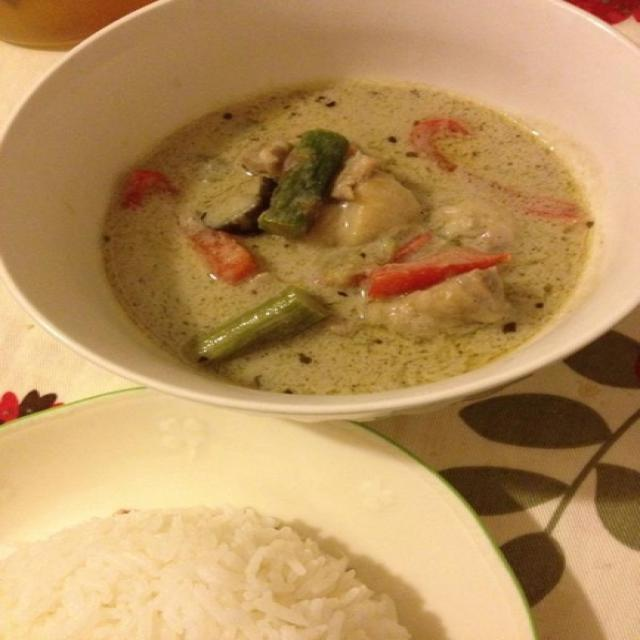猪肉菜式: (16, 177, 640, 552)
